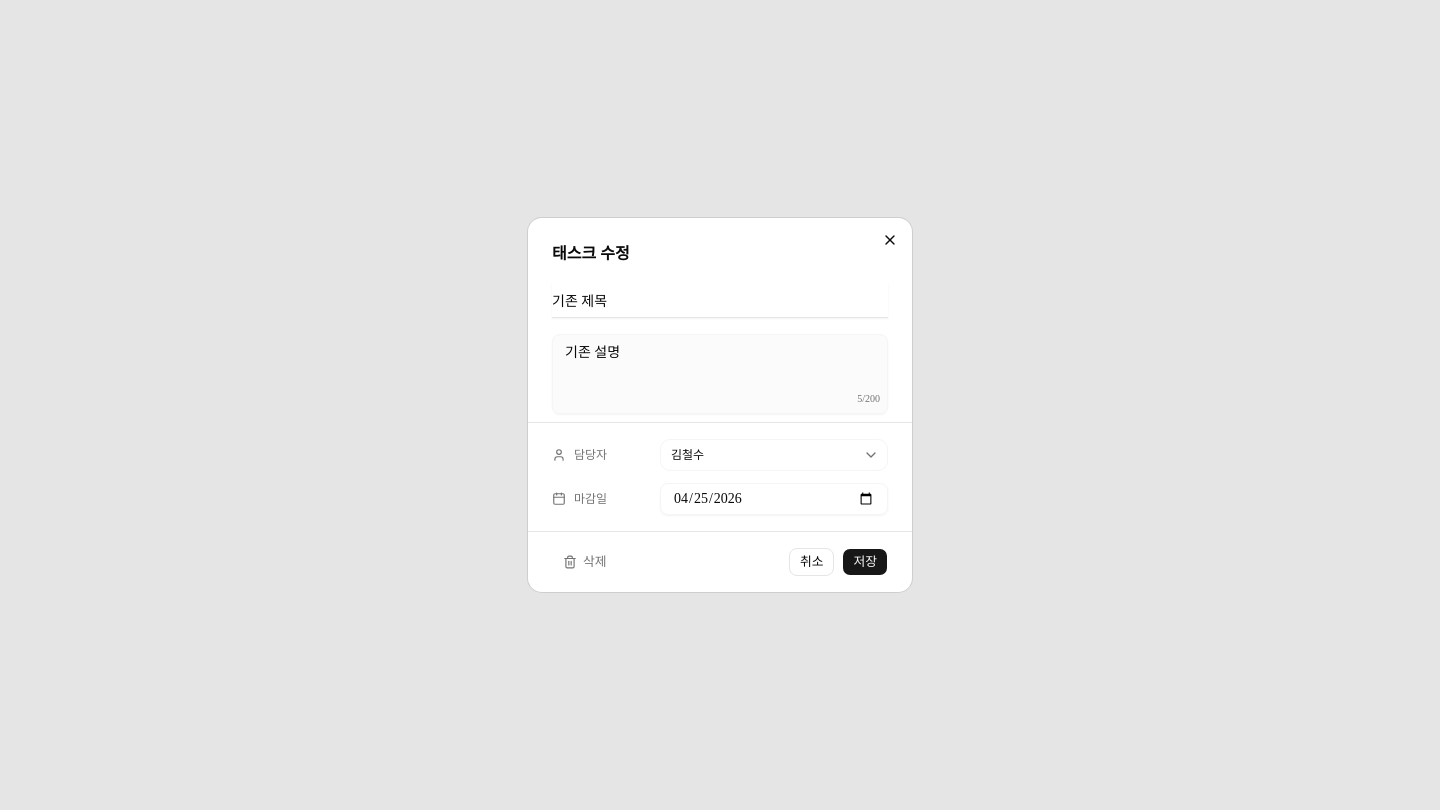
TaskEditModal › 제목이 비어있으면 저장 버튼이 비활성화된다
Clear the field showing "기존 제목": (720, 300) [552,282,888,318]
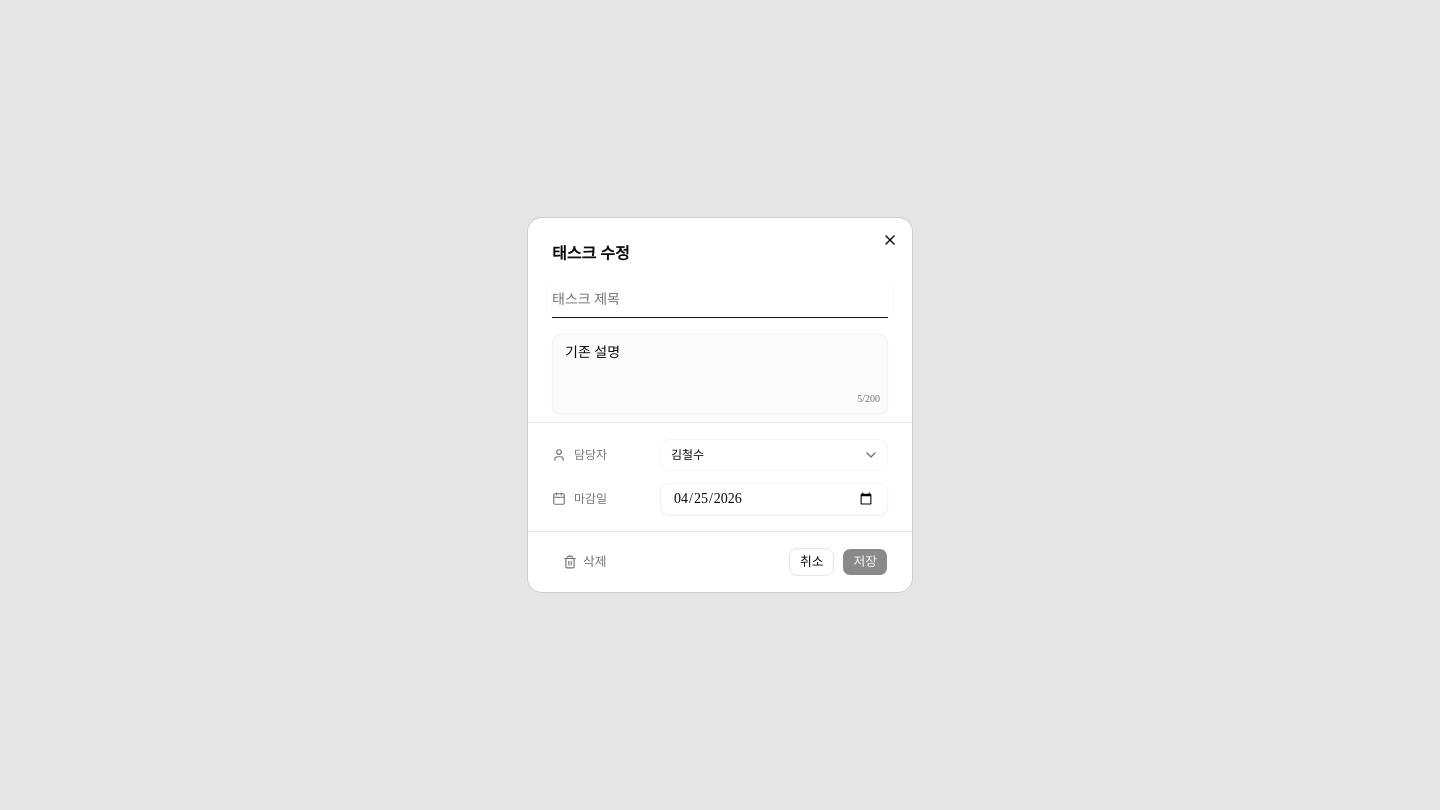
Check: the button "저장" is disabled, box [842,548,888,576]
